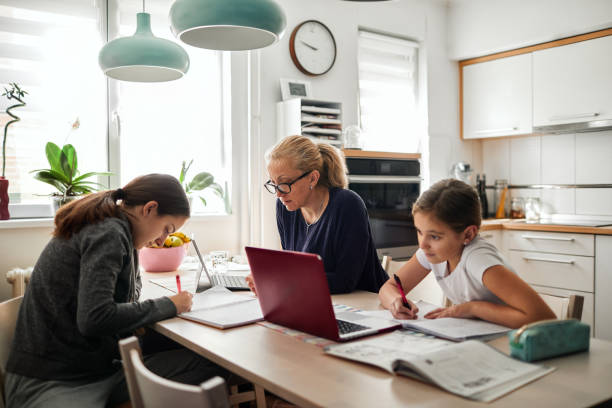without mask: (407, 215, 462, 267), (263, 161, 318, 213), (133, 199, 188, 251)
